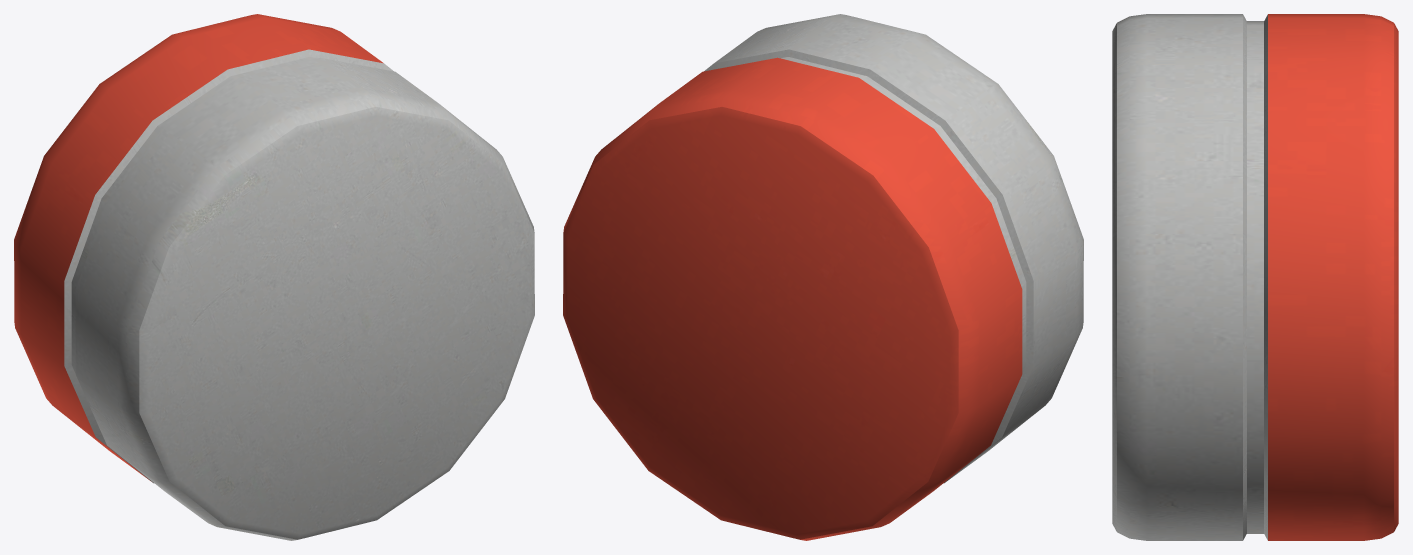
Rendered from Ball.FBX.
The picture shows the model from 3 angles, left to right: view 1: azimuth 30°, elevation 25°; view 2: azimuth 150°, elevation 25°; view 3: azimuth 270°, elevation 25°; orthographic projection. The views are drawn at different scales.
Visible parts, largest first — view 1: Ball; view 2: Ball; view 3: Ball.
Part boxes in pixels (box(x1,y1,x2,y2)): Ball: box(14, 14, 534, 540); Ball: box(563, 14, 1083, 540); Ball: box(1112, 14, 1398, 540).
Size of the model in its own units: 14.52 by 7.94 by 14.52.
